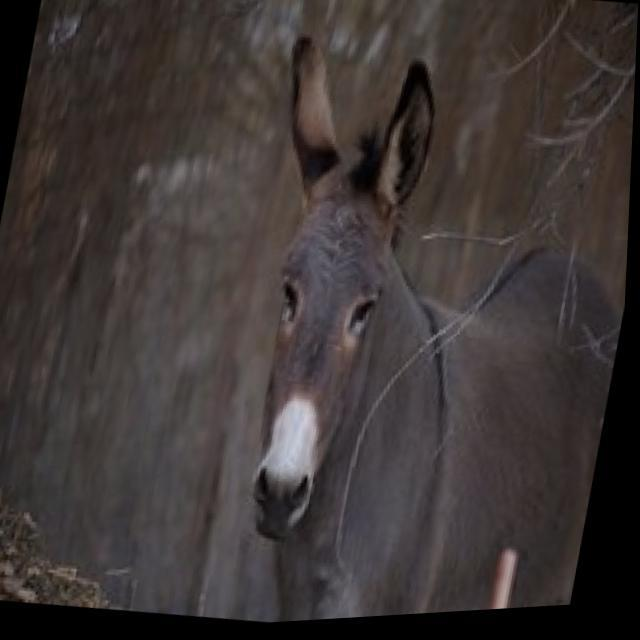Donkey: (194, 18, 638, 630)
